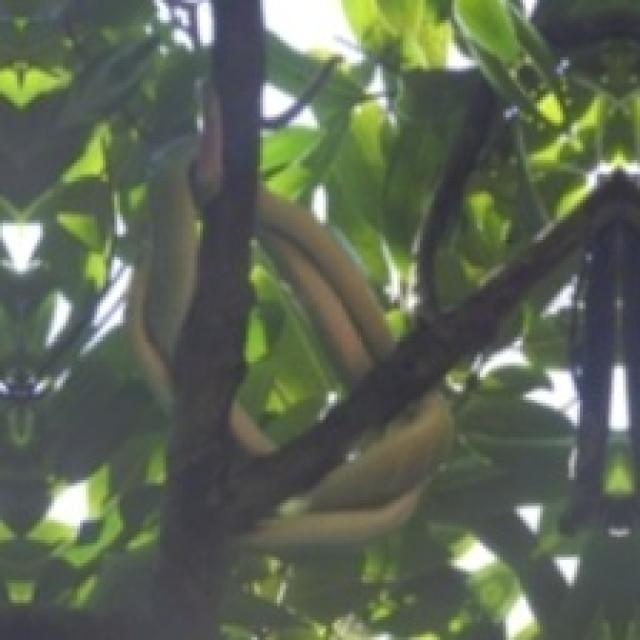red-tailed green ratsnake: (246, 391, 451, 546), (246, 391, 449, 546), (257, 186, 391, 386), (257, 186, 391, 383), (131, 135, 196, 394)
